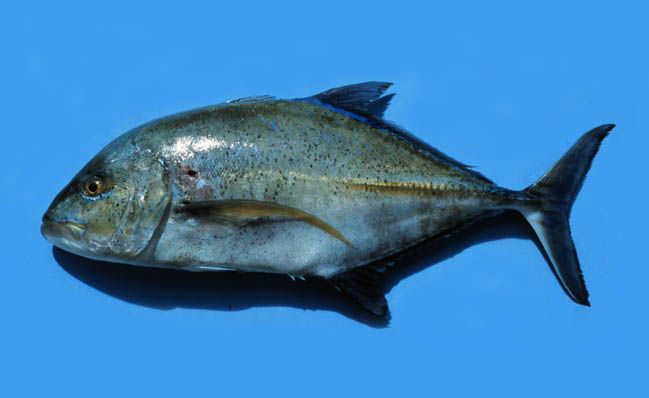fish: (43, 83, 619, 307)
